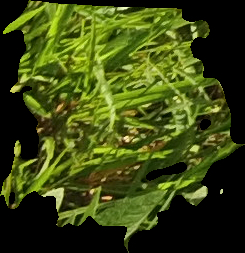grass: (1, 1, 243, 251)
